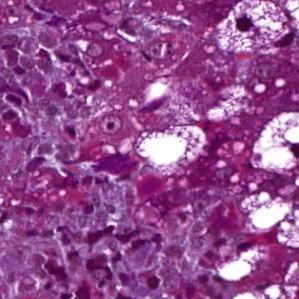ballooning: (212, 0, 294, 58), (136, 124, 206, 174), (248, 110, 294, 176)
